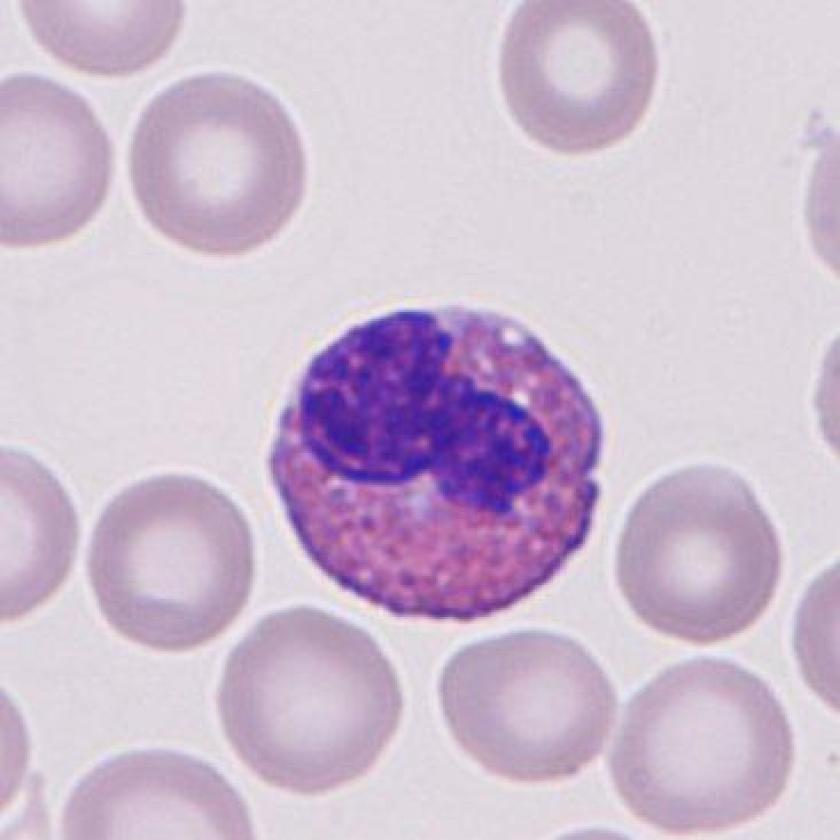eosinophil: (251, 286, 621, 639)
